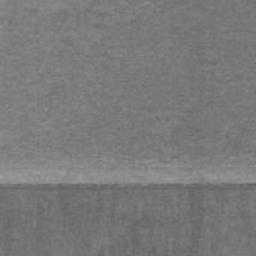Welding line: (0, 182, 256, 192)
